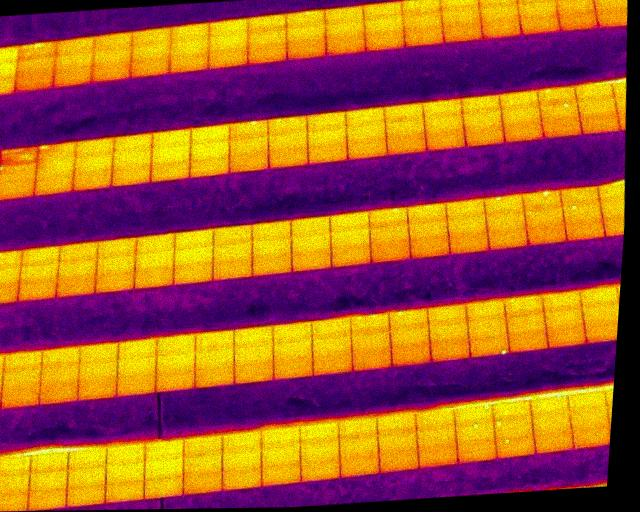Hotspot: (386, 305, 433, 334), (347, 310, 393, 338), (366, 205, 411, 230), (227, 117, 271, 142)
